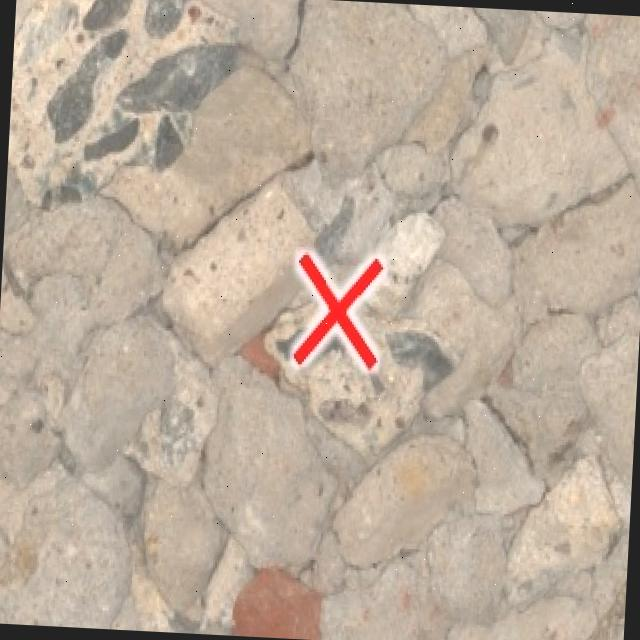x_marker: (292, 254, 382, 368)
